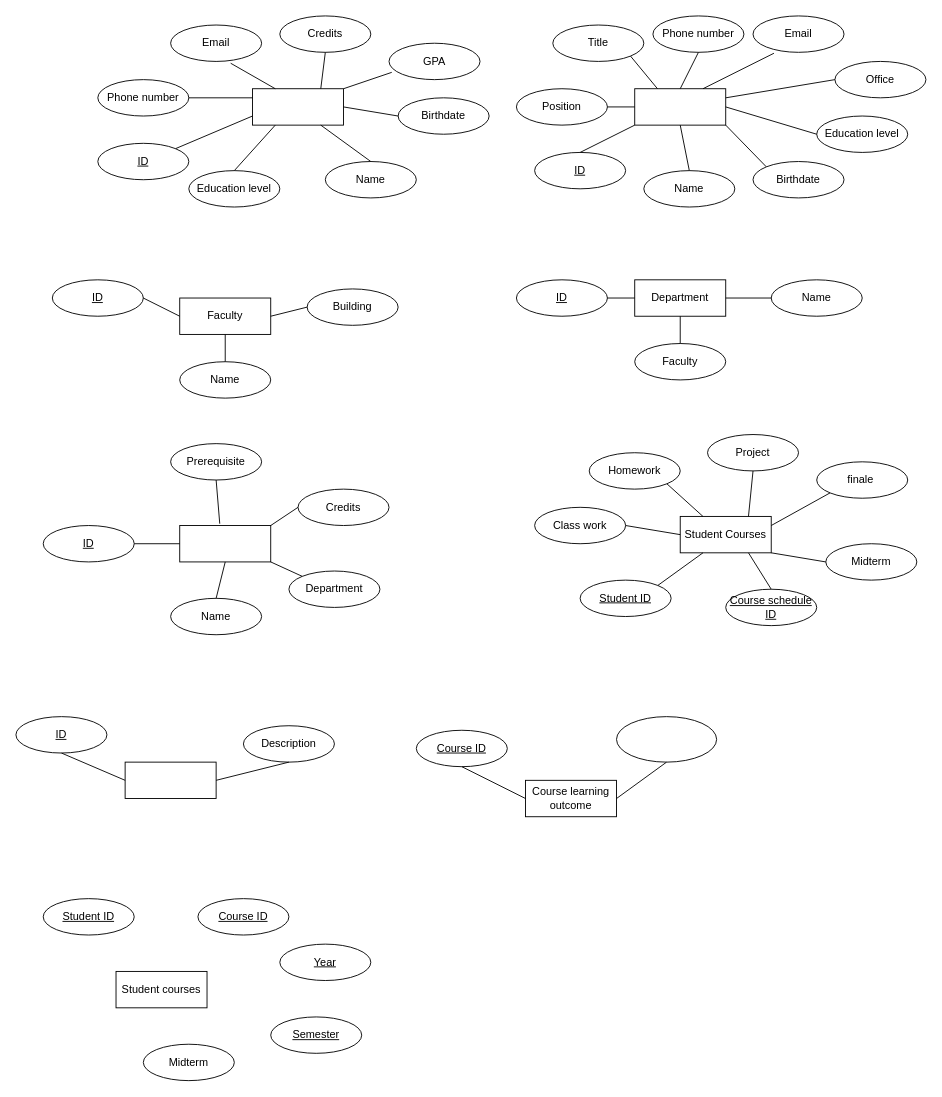
The diagram is 942 pixels wide and 1097 high, and some of its shapes have lost their labels. The shapes that lost their labels are listed below. From the top down, each one's box as (x1, y1, x2, y2) in pixels, then its label:
(252, 88, 344, 125): Student
(634, 88, 726, 125): Faculty members
(179, 525, 271, 562): Course
(616, 716, 717, 762): Learning outcome ID
(124, 761, 216, 799): Learning outcomes
